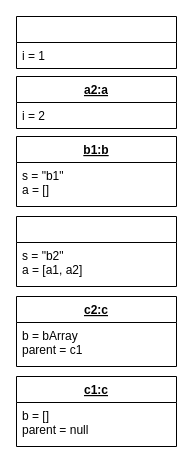
This 193x463 diagram has some shape labels left out. Here are the shapes that lost their labels. From the top down, the box of each, then its label:
(16, 16, 176, 68): a1:a
(16, 216, 176, 286): b2:b
